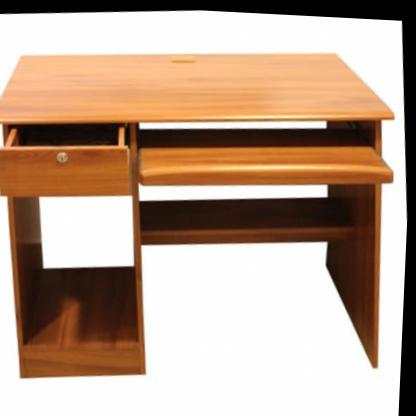Table: (0, 14, 416, 416)
